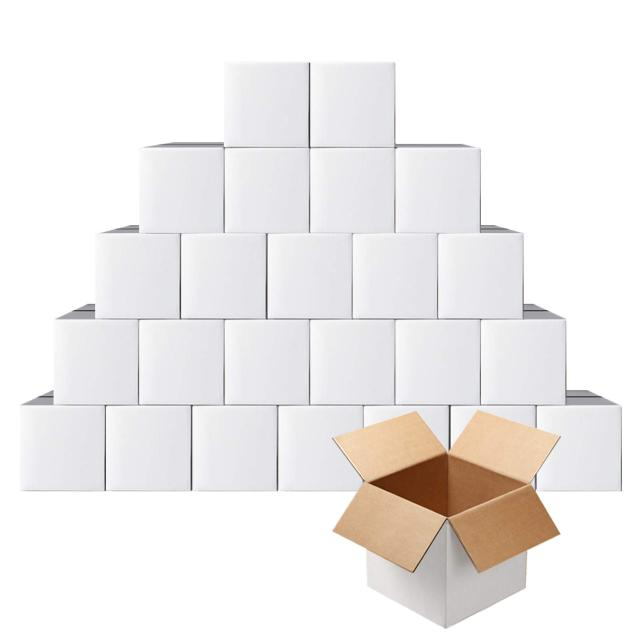Carton: (19, 61, 520, 492), (536, 404, 622, 489), (477, 321, 564, 403)
